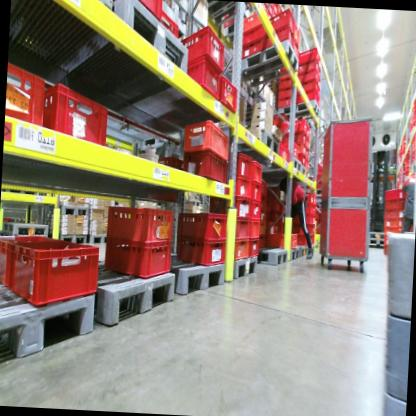pallet: (51, 0, 196, 122), (0, 280, 97, 375), (86, 256, 180, 330), (239, 36, 301, 96), (166, 256, 230, 302), (135, 121, 194, 156), (206, 0, 252, 41), (235, 129, 284, 158), (272, 95, 321, 121), (3, 218, 49, 239), (259, 153, 301, 175), (229, 254, 257, 286), (256, 244, 288, 268), (86, 228, 114, 248), (59, 199, 90, 216), (58, 232, 89, 245), (299, 242, 312, 257), (366, 236, 382, 248), (289, 247, 300, 262), (302, 165, 310, 180), (366, 231, 385, 237)
pallet_truck: (361, 134, 400, 242)
small_load_carrier: (9, 232, 99, 309), (42, 78, 108, 151), (103, 235, 173, 282), (4, 60, 48, 134), (0, 229, 51, 291), (105, 204, 175, 248), (175, 22, 226, 69), (182, 117, 231, 160), (180, 145, 230, 184), (186, 54, 225, 103), (176, 209, 229, 242), (177, 234, 228, 267), (109, 0, 164, 24), (210, 195, 250, 219), (265, 6, 296, 36), (262, 25, 296, 50), (267, 228, 300, 252), (218, 74, 238, 113), (161, 8, 181, 41), (240, 7, 264, 33), (230, 231, 250, 262), (231, 172, 252, 201), (238, 34, 263, 57), (232, 150, 253, 177), (156, 151, 182, 171), (281, 116, 309, 134), (231, 215, 251, 240), (241, 23, 263, 45), (382, 197, 410, 214), (298, 43, 320, 64), (305, 169, 325, 192), (384, 185, 408, 204), (280, 128, 306, 144), (296, 78, 318, 96), (298, 57, 320, 75), (382, 216, 412, 229), (295, 89, 319, 104), (298, 67, 318, 85), (381, 226, 409, 238), (277, 140, 292, 162), (250, 181, 262, 206), (251, 160, 263, 185), (282, 141, 299, 158), (382, 208, 410, 218), (279, 64, 299, 78), (249, 199, 261, 222), (249, 218, 260, 242), (272, 110, 285, 130), (278, 83, 294, 99), (265, 221, 282, 236), (247, 237, 259, 258), (297, 232, 315, 246), (293, 212, 314, 224), (292, 18, 302, 43), (293, 223, 313, 235), (277, 75, 293, 89), (266, 198, 281, 211), (277, 94, 292, 107), (265, 210, 279, 223), (267, 185, 281, 197), (380, 237, 395, 248), (260, 179, 267, 199), (257, 234, 266, 249), (295, 141, 306, 153), (383, 247, 394, 257), (280, 200, 289, 212), (297, 153, 306, 165), (259, 222, 267, 235), (260, 198, 267, 212), (260, 212, 267, 223)
